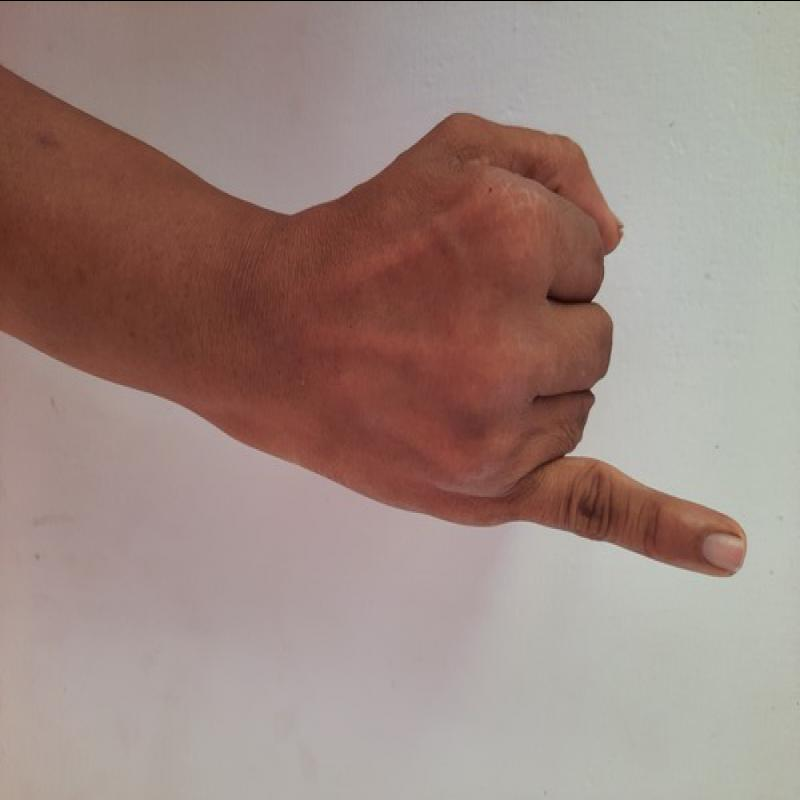Kartharee Mukham: (234, 105, 757, 588)
